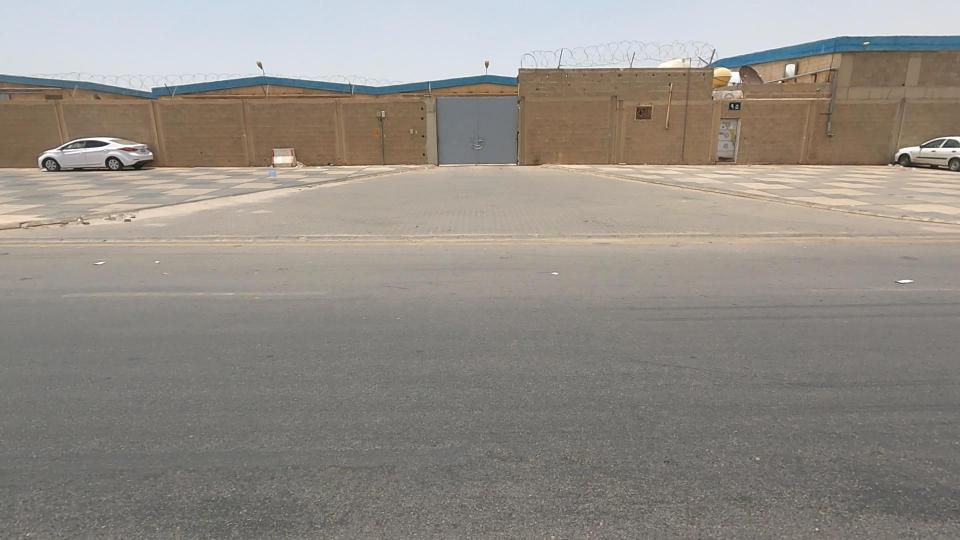GARBAGE: (861, 242, 948, 321), (46, 241, 157, 291), (247, 150, 299, 198)
